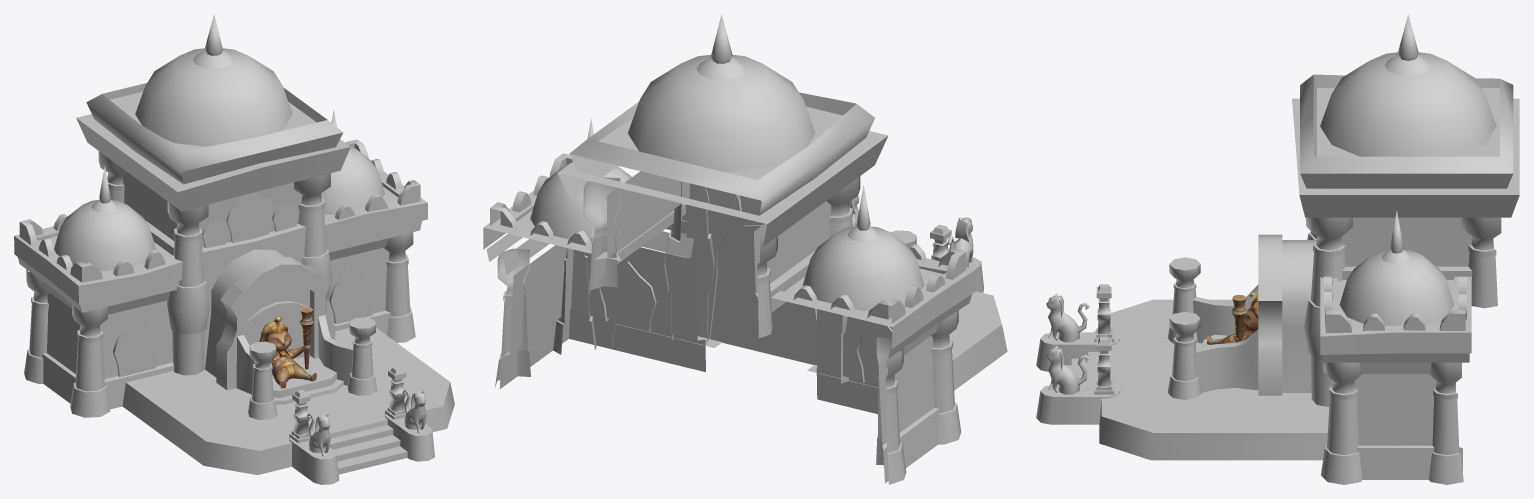
File: Map_11_house01.FBX
3 views of the same model, side by side, from view 1: azimuth 30°, elevation 25°; view 2: azimuth 150°, elevation 25°; view 3: azimuth 270°, elevation 25° (orthographic). The views are drawn at different scales.
Visible parts, largest first — view 1: Map_11_house01a, Map_11_house01b; view 2: Map_11_house01a; view 3: Map_11_house01a, Map_11_house01b.
Boxes of the visible parts, left/top/right/bottom form: Map_11_house01a: left=14, top=14, right=454, bottom=484; Map_11_house01b: left=259, top=307, right=316, bottom=388; Map_11_house01a: left=483, top=14, right=1007, bottom=484; Map_11_house01a: left=1036, top=14, right=1519, bottom=484; Map_11_house01b: left=1207, top=292, right=1258, bottom=344.
Size of the model in its own units: 888 by 950 by 819.
